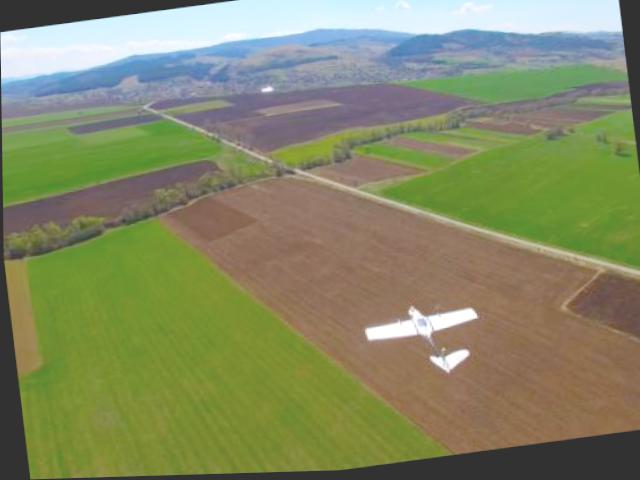uav: (356, 290, 494, 393)
